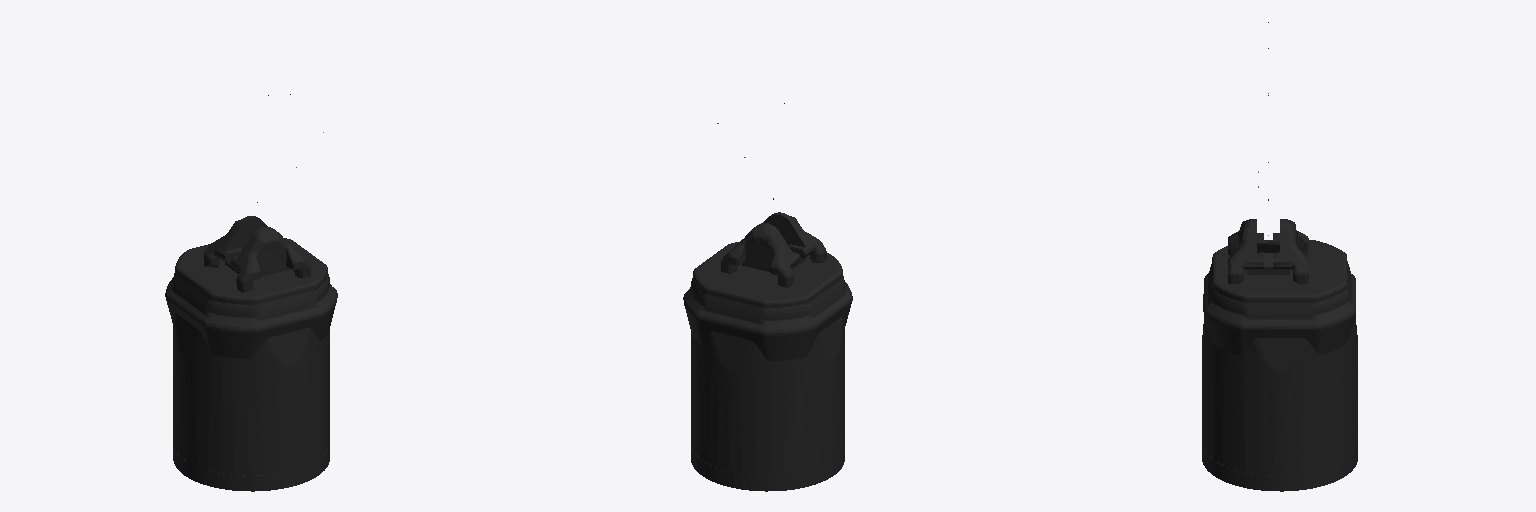
--- Render facts (derived) ---
3 views of the same robot in one strip: view 1: azimuth 30°, elevation 25°; view 2: azimuth 150°, elevation 25°; view 3: azimuth 270°, elevation 25° (orthographic).
Robot: shadowhand_motor — 33 links, 32 joints (24 revolute, 8 fixed); root link world; default pose: every joint at zero.
Links seen in each view (by area): view 1: rh_forearm; view 2: rh_forearm; view 3: rh_forearm.
Boxes of the visible links, x1,y1,x2,y2 form: rh_forearm: (165, 216, 337, 491); rh_forearm: (683, 212, 852, 491); rh_forearm: (1202, 219, 1357, 491).
Size in the robot's own frame: 0.1513 by 0.1351 by 0.4162 metres.
23 mesh visuals loaded from 11 distinct referenced files (11 Collada DAE).

robot.urdf — shadowhand_motor:
<?xml version="1.0" ?>
<!-- =================================================================================== -->
<!-- |    This document was autogenerated by xacro from [local-path]/projects/shadow_robot/base_deps/src/sr_common/sr_description/robots/shadowhand_motor.urdf.xacro | -->
<!-- |    EDITING THIS FILE BY HAND IS NOT RECOMMENDED                                 | -->
<!-- =================================================================================== -->
<robot name="shadowhand_motor" xmlns:body="http://playerstage.sourceforge.net/gazebo/xmlschema/#body" xmlns:controller="http://playerstage.sourceforge.net/gazebo/xmlschema/#controller" xmlns:geom="http://playerstage.sourceforge.net/gazebo/xmlschema/#geom" xmlns:interface="http://playerstage.sourceforge.net/gazebo/xmlschema/#interface" xmlns:joint="http://playerstage.sourceforge.net/gazebo/xmlschema/#slider" xmlns:sensor="http://playerstage.sourceforge.net/gazebo/xmlschema/#sensor" xmlns:xacro="http://www.ros.org/wiki/xacro">
  <material name="Blue">
    <color rgba="0.0 0.0 0.8 1.0"/>
  </material>
  <material name="Green">
    <color rgba="0.0 0.8 0.0 1.0"/>
  </material>
  <material name="BiotacGreen">
    <color rgba="0.31 0.85 0.42 1.0"/>
  </material>
  <material name="Grey">
    <color rgba="0.2 0.2 0.2 1.0"/>
  </material>
  <material name="LightGrey">
    <color rgba="0.6 0.6 0.6 1.0"/>
  </material>
  <material name="Red">
    <color rgba="0.8 0.0 0.0 1.0"/>
  </material>
  <material name="White">
    <color rgba="1.0 1.0 1.0 1.0"/>
  </material>
  <gazebo>
    <plugin filename="libgazebo_ros_control.so" name="gazebo_ros_control">
      <robotSimType>sr_gazebo_sim/SrGazeboHWSim</robotSimType>
    </plugin>
  </gazebo>
  <!-- hand with cylindrical base drifts in gazebo, attach it to the world -->
  <link name="world"/>
  <joint name="rh_world_joint" type="fixed">
    <parent link="world"/>
    <child link="rh_forearm"/>
    <origin rpy="0.0 0.0 0.0" xyz="0.0 0.0 0.0"/>
  </joint>
  <link name="rh_forearm">
    <inertial>
      <origin rpy="0 0 0" xyz="0 0 0.09"/>
      <mass value="3.0"/>
      <inertia ixx="0.0138" ixy="0.0" ixz="0.0" iyy="0.0138" iyz="0.0" izz="0.00744"/>
    </inertial>
    <visual>
      <origin rpy="0 0 0" xyz="0 0 0"/>
      <geometry name="rh_forearm_visual">
        <mesh filename="package://sr_description/hand/model/forearm_visual_plus.dae" scale="0.001 0.001 0.001"/>
      </geometry>
      <material name="Grey"/>
    </visual>
    <collision>
      <origin rpy="0 0 0" xyz="0 0 0.092"/>
      <geometry name="rh_forearm_collision">
        <mesh filename="package://sr_description/hand/model/forearm_collision_plus.stl" scale="0.001 0.001 0.001"/>
      </geometry>
    </collision>
    <!-- wrist mount -->
    <collision>
      <origin rpy="0 0.78 0" xyz="0 -0.01 0.181"/>
      <geometry>
        <box size="0.07 0.07 0.07"/>
      </geometry>
    </collision>
  </link>
  <gazebo reference="rh_forearm">
    <selfCollide>false</selfCollide>
  </gazebo>
  <link name="rh_wrist">
    <inertial>
      <origin rpy="0 0 0" xyz="0 0 0.029"/>
      <mass value="0.1"/>
      <inertia ixx="0.000035" ixy="0.0" ixz="0.0" iyy="0.000064" iyz="0.0" izz="0.0000438"/>
    </inertial>
    <visual>
      <origin rpy="0 0 0" xyz="0 0 0"/>
      <geometry name="rh_wrist_visual">
        <mesh filename="package://sr_description/hand/model/wrist.dae" scale="0.001 0.001 0.001"/>
      </geometry>
      <material name="LightGrey"/>
    </visual>
    <collision>
      <origin rpy="1.5708 1.5708 0" xyz="0 0 0"/>
      <geometry name="rh_wrist_collision_geom">
        <cylinder length="0.030" radius="0.0135"/>
      </geometry>
    </collision>
    <collision>
      <origin rpy="0 1.5708 0" xyz="-0.026 0 0.034"/>
      <geometry>
        <cylinder length="0.010" radius="0.011"/>
      </geometry>
    </collision>
    <collision>
      <origin rpy="0 1.5708 0" xyz="0.031 0 0.034"/>
      <geometry>
        <cylinder length="0.010" radius="0.011"/>
      </geometry>
    </collision>
    <collision>
      <origin rpy="0 0.7854 0" xyz="-0.021 0 0.011"/>
      <geometry>
        <box size="0.027 0.018 0.010"/>
      </geometry>
    </collision>
    <collision>
      <origin rpy="0 -0.7854 0" xyz="0.026 0 0.010"/>
      <geometry>
        <box size="0.027 0.018 0.010"/>
      </geometry>
    </collision>
  </link>
  <gazebo reference="rh_wrist">
    <material>Gazebo/White</material>
    <selfCollide>false</selfCollide>
  </gazebo>
  <joint name="rh_WRJ2" type="revolute">
    <parent link="rh_forearm"/>
    <child link="rh_wrist"/>
    <origin rpy="0 0 0" xyz="0 -0.010 0.213"/>
    <axis xyz="0 1.0 0"/>
    <limit effort="10.0" lower="-0.523598775598" upper="0.174532925199" velocity="2.0"/>
    <dynamics damping="0.1"/>
  </joint>
  <gazebo reference="rh_WRJ2">
    <provideFeedback>1</provideFeedback>
    <implicitSpringDamper>1</implicitSpringDamper>
  </gazebo>
  <transmission name="rh_wrist_transmission">
    <type>sr_mechanism_model/SimpleTransmission</type>
    <actuator name="rh_WRJ2">
      <mechanicalReduction>1</mechanicalReduction>
    </actuator>
    <joint name="rh_WRJ2">
      <hardwareInterface>hardware_interface/EffortJointInterface</hardwareInterface>
    </joint>
  </transmission>
  <link name="rh_palm">
    <inertial>
      <origin rpy="0 0 0" xyz="0 0 0.035"/>
      <mass value="0.3"/>
      <inertia ixx="0.0003581" ixy="0.0" ixz="0.0" iyy="0.0005287" iyz="0.0" izz="0.000191"/>
    </inertial>
    <visual>
      <origin rpy="0 0 0" xyz="0 0 0"/>
      <geometry name="rh_palm_visual">
        <mesh filename="package://sr_description/hand/model/palm.dae" scale="0.001 0.001 0.001"/>
      </geometry>
      <material name="Grey"/>
    </visual>
    <collision>
      <origin rpy="0 0 0" xyz="0.011 0.0085 0.038"/>
      <geometry name="rh_palm_collision_geom">
        <box size="0.062 0.007 0.098"/>
      </geometry>
    </collision>
    <collision>
      <origin rpy="0 0 0" xyz="-0.002 -0.0035 0.038"/>
      <geometry>
        <box size="0.036 0.017 0.098"/>
      </geometry>
    </collision>
    <!-- palm complement below first finger -->
    <collision>
      <origin rpy="0 0 0" xyz="0.029 -0.0035 0.082"/>
      <geometry>
        <box size="0.026 0.017 0.010"/>
      </geometry>
    </collision>
    <collision>
      <origin rpy="0.2 0 0.25" xyz="0.0265 -0.001 0.070"/>
      <geometry>
        <box size="0.026 0.014 0.018"/>
      </geometry>
    </collision>
    <!-- thumb pulp side -->
    <collision>
      <origin rpy="0 0 0" xyz="0.0315 -0.0085 0.001"/>
      <geometry>
        <box size="0.021 0.027 0.024"/>
      </geometry>
    </collision>
    <!-- thumb pulp central -->
    <collision>
      <origin rpy="0 0 -0.48" xyz="0.0125 -0.015 0.009"/>
      <geometry>
        <box size="0.022 0.005 0.040"/>
      </geometry>
    </collision>
    <!-- above middle finger-->
    <collision>
      <origin rpy="0 0 0" xyz="0.011 0 0.089"/>
      <geometry>
        <box size="0.018 0.024 0.004"/>
      </geometry>
    </collision>
    <!-- metacarpal side-->
    <collision>
      <origin rpy="0 0 0" xyz="-0.03 0 0.009"/>
      <geometry>
        <box size="0.020 0.024 0.040"/>
      </geometry>
    </collision>
  </link>
  <joint name="rh_ee_fixed_joint" type="fixed">
    <parent link="rh_palm"/>
    <child link="rh_manipulator"/>
    <origin rpy="0.0 0.0 0.0" xyz="0.0 0.0 0.05"/>
  </joint>
  <link name="rh_manipulator"/>
  <joint name="rh_WRJ1" type="revolute">
    <parent link="rh_wrist"/>
    <child link="rh_palm"/>
    <origin rpy="0 0 0" xyz="0 0 0.034"/>
    <axis xyz="1 0 0"/>
    <limit effort="5.0" lower="-0.698131700798" upper="0.488692190558" velocity="2.0"/>
    <dynamics damping="0.1"/>
  </joint>
  <gazebo reference="rh_WRJ1">
    <provideFeedback>1</provideFeedback>
    <implicitSpringDamper>1</implicitSpringDamper>
  </gazebo>
  <link name="rh_imu"/>
  <joint name="rh_palm_to_imu" type="fixed">
    <parent link="rh_palm"/>
    <child link="rh_imu"/>
    <origin rpy="-1.5707963 3.141592 0.0" xyz="0.01785 0.00765 0.049125"/>
  </joint>
  <sensor name="rh_imu" update_rate="100">
    <parent link="rh_imu"/>
    <origin rpy="0 0 0" xyz="0 0 0"/>
  </sensor>
  <transmission name="rh_palm_transmission">
    <type>sr_mechanism_model/SimpleTransmission</type>
    <actuator name="rh_WRJ1">
      <mechanicalReduction>1</mechanicalReduction>
    </actuator>
    <joint name="rh_WRJ1">
      <hardwareInterface>hardware_interface/EffortJointInterface</hardwareInterface>
    </joint>
  </transmission>
  <!-- prefix can be anything but usually is "r_" or  "l_" for right and left hands distinction -->
  <gazebo reference="rh_palm">
    <sensor name="rh_palm_contact" type="contact">
      <always_on>1</always_on>
      <update_rate>1000.0</update_rate>
      <contact>
        <collision>rh_palm_collision</collision>
        <topic>rh_palm_collision</topic>
      </contact>
      <plugin filename="libgazebo_ros_bumper.so" name="rh_palm_gazebo_ros_bumper_controller">
        <alwaysOn>true</alwaysOn>
        <frameName>rh_palm</frameName>
        <updateRate>100.0</updateRate>
        <bumperTopicName>contacts/rh_palm</bumperTopicName>
      </plugin>
    </sensor>
  </gazebo>
  <link name="rh_ffknuckle">
    <inertial>
      <origin rpy="0 0 0" xyz="0 0 0"/>
      <mass value="0.008"/>
      <inertia ixx="0.00000026" ixy="0.0" ixz="0.0" iyy="0.00000026" iyz="0.0" izz="0.00000032"/>
    </inertial>
    <visual>
      <origin rpy="0 0 0" xyz="0 0 0.0005"/>
      <geometry name="rh_ffknuckle_visual">
        <mesh filename="package://sr_description/hand/model/knuckle.dae" scale="0.001 0.001 0.001"/>
      </geometry>
      <material name="LightGrey"/>
    </visual>
    <collision>
      <origin rpy="0 1.5708 0" xyz="0 0 0"/>
      <geometry name="rh_ffknuckle_collision_geom">
        <cylinder length="0.014" radius="0.007"/>
      </geometry>
    </collision>
  </link>
  <joint name="rh_FFJ4" type="revolute">
    <parent link="rh_palm"/>
    <child link="rh_ffknuckle"/>
    <!--<origin xyz="0.033 0 0.095" rpy="0 0 0" />-->
    <origin rpy="0 0 0" xyz="0.033 0 0.095"/>
    <axis xyz="0 -1.0 0"/>
    <limit effort="4.0" lower="-0.349065850399" upper="0.349065850399" velocity="2.0"/>
    <dynamics damping="0.1"/>
  </joint>
  <gazebo reference="rh_FFJ4">
    <provideFeedback>1</provideFeedback>
    <implicitSpringDamper>1</implicitSpringDamper>
  </gazebo>
  <transmission name="rh_ffknuckle_transmission">
    <type>sr_mechanism_model/SimpleTransmission</type>
    <actuator name="rh_FFJ4">
      <mechanicalReduction>1</mechanicalReduction>
    </actuator>
    <joint name="rh_FFJ4">
      <hardwareInterface>hardware_interface/EffortJointInterface</hardwareInterface>
    </joint>
  </transmission>
  <!-- prefix can be anything but usually is "r_" or  "l_" for right and left hands distinction -->
  <gazebo reference="rh_ffknuckle">
    <sensor name="rh_ffknuckle_contact" type="contact">
      <always_on>1</always_on>
      <update_rate>1000.0</update_rate>
      <contact>
        <collision>rh_ffknuckle_collision</collision>
        <topic>rh_ffknuckle_collision</topic>
      </contact>
      <plugin filename="libgazebo_ros_bumper.so" name="rh_ffknuckle_gazebo_ros_bumper_controller">
        <alwaysOn>true</alwaysOn>
        <frameName>rh_ffknuckle</frameName>
        <updateRate>100.0</updateRate>
        <bumperTopicName>contacts/rh_ff/knuckle</bumperTopicName>
      </plugin>
    </sensor>
    <material>Gazebo/Grey</material>
  </gazebo>
  <link name="rh_ffproximal">
    <inertial>
      <mass value="0.030"/>
      <origin xyz="0 0 0.0225"/>
      <inertia ixx="0.0000098" ixy="0.0" ixz="0.0" iyy="0.00001" iyz="0.0" izz="0.0000018"/>
    </inertial>
    <visual>
      <origin rpy="0 0 0" xyz="0 0 0"/>
      <geometry name="rh_ffproximal_visual">
        <mesh filename="package://sr_description/hand/model/F3.dae" scale="0.001 0.001 0.001"/>
      </geometry>
      <material name="Grey"/>
    </visual>
    <collision>
      <origin rpy="0 0 0" xyz="0 0 0.025"/>
      <geometry name="rh_ffproximal_collision_geom">
        <cylinder length="0.040" radius="0.007"/>
      </geometry>
    </collision>
  </link>
  <joint name="rh_FFJ3" type="revolute">
    <parent link="rh_ffknuckle"/>
    <child link="rh_ffproximal"/>
    <origin rpy="0 0 0" xyz="0 0 0"/>
    <axis xyz="1 0 0"/>
    <limit effort="4.0" lower="0" upper="1.57079632679" velocity="2.0"/>
    <dynamics damping="0.1"/>
  </joint>
  <gazebo reference="rh_FFJ3">
    <provideFeedback>1</provideFeedback>
    <implicitSpringDamper>1</implicitSpringDamper>
  </gazebo>
  <transmission name="rh_ffproximal_transmission">
    <type>sr_mechanism_model/SimpleTransmission</type>
    <actuator name="rh_FFJ3">
      <mechanicalReduction>1</mechanicalReduction>
    </actuator>
    <joint name="rh_FFJ3">
      <hardwareInterface>hardware_interface/EffortJointInterface</hardwareInterface>
    </joint>
  </transmission>
  <!-- prefix can be anything but usually is "r_" or  "l_" for right and left hands distinction -->
  <gazebo reference="rh_ffproximal">
    <sensor name="rh_ffproximal_contact" type="contact">
      <always_on>1</always_on>
      <update_rate>1000.0</update_rate>
      <contact>
        <collision>rh_ffproximal_collision</collision>
        <topic>rh_ffproximal_collision</topic>
      </contact>
      <plugin filename="libgazebo_ros_bumper.so" name="rh_ffproximal_gazebo_ros_bumper_controller">
        <alwaysOn>true</alwaysOn>
        <frameName>rh_ffproximal</frameName>
        <updateRate>100.0</updateRate>
        <bumperTopicName>contacts/rh_ff/proximal</bumperTopicName>
      </plugin>
    </sensor>
    <selfCollide>true</selfCollide>
  </gazebo>
  <link name="rh_ffmiddle">
    <inertial>
      <origin rpy="0 0 0" xyz="0 0 0.0125"/>
      <mass value="0.017"/>
      <inertia ixx="0.0000026" ixy="0.0" ixz="0.0" iyy="0.0000027" iyz="0.0" izz="0.00000087"/>
    </inertial>
    <visual>
      <origin rpy="0 0 0" xyz="0 0 0"/>
      <geometry name="rh_ffmiddle_visual">
        <mesh filename="package://sr_description/hand/model/F2.dae" scale="0.001 0.001 0.001"/>
      </geometry>
      <material name="Grey"/>
    </visual>
    <collision>
      <origin rpy="0 0 0" xyz="0 0 0.0125"/>
      <geometry name="rh_ffmiddle_collision_geom">
        <cylinder length="0.025" radius="0.007"/>
      </geometry>
    </collision>
    <collision>
      <origin rpy="0 0 0" xyz="0 0 0.0"/>
      <geometry>
        <sphere radius="0.007"/>
      </geometry>
    </collision>
    <collision>
      <origin rpy="0 0 0" xyz="0 0 0.025"/>
      <geometry>
        <sphere radius="0.007"/>
      </geometry>
    </collision>
  </link>
  <joint name="rh_FFJ2" type="revolute">
    <parent link="rh_ffproximal"/>
    <child link="rh_ffmiddle"/>
    <origin rpy="0 0 0" xyz="0 0 0.045"/>
    <axis xyz="1 0 0"/>
    <limit effort="4.0" lower="0" upper="1.57079632679" velocity="2.0"/>
    <dynamics damping="0.1"/>
  </joint>
  <gazebo reference="rh_FFJ2">
    <provideFeedback>1</provideFeedback>
    <implicitSpringDamper>1</implicitSpringDamper>
  </gazebo>
  <transmission name="rh_ffmiddle_transmission">
    <type>sr_mechanism_model/SimpleTransmission</type>
    <actuator name="rh_FFJ2">
      <mechanicalReduction>1</mechanicalReduction>
    </actuator>
    <joint name="rh_FFJ2">
      <hardwareInterface>hardware_interface/EffortJointInterface</hardwareInterface>
    </joint>
    <!-- <joint name="rh_FFJ1">
      <hardwareInterface>hardware_interface/EffortJointInterface</hardwareInterface>
    </joint> -->
  </transmission>
  <!-- prefix can be anything but usually is "r_" or  "l_" for right and left hands distinction -->
  <gazebo reference="rh_ffmiddle">
    <sensor name="rh_ffmiddle_contact" type="contact">
      <always_on>1</always_on>
      <update_rate>1000.0</update_rate>
      <contact>
        <collision>rh_ffmiddle_collision</collision>
        <topic>rh_ffmiddle_collision</topic>
      </contact>
      <plugin filename="libgazebo_ros_bumper.so" name="rh_ffproximal_gazebo_ros_bumper_controller">
        <alwaysOn>true</alwaysOn>
        <frameName>rh_ffmiddle</frameName>
        <updateRate>100.0</updateRate>
        <bumperTopicName>contacts/rh_ff/middle</bumperTopicName>
      </plugin>
    </sensor>
    <selfCollide>true</selfCollide>
  </gazebo>
  <link name="rh_ffdistal">
    <inertial>
      <mass value="0.012"/>
      <origin xyz="0 0 0.012"/>
      <inertia ixx="0.00000094" ixy="0.0" ixz="0.0" iyy="0.0000011" iyz="0.0" izz="0.00000053"/>
    </inertial>
    <visual>
      <origin rpy="0 0 0" xyz="0 0 0"/>
      <geometry name="rh_ffdistal_visual">
        <!-- Standard distal  -->
        <mesh filename="package://sr_description/hand/model/F1.dae" scale="0.001 0.001 0.001"/>
      </geometry>
      <material name="Grey"/>
    </visual>
    <collision>
      <origin rpy="0 0 0" xyz="0 0 0"/>
      <geometry name="rh_ffdistal_collision_geom">
        <!-- Standard distal  -->
        <mesh filename="package://sr_description/hand/model/F1.dae" scale="0.001 0.001 0.001"/>
      </geometry>
    </collision>
  </link>
  <joint name="rh_FFJ1" type="revolute">
    <parent link="rh_ffmiddle"/>
    <child link="rh_ffdistal"/>
    <origin rpy="0 0 0" xyz="0 0 0.025"/>
    <axis xyz="1 0 0"/>
    <!-- standard distal joint -->
    <limit effort="4.0" lower="0" upper="1.57079632679" velocity="2.0"/>
    <dynamics damping="0.1"/>
  </joint>
  <gazebo reference="rh_FFJ1">
    <provideFeedback>1</provideFeedback>
    <implicitSpringDamper>1</implicitSpringDamper>
  </gazebo>
  <link name="rh_fftip">
    <inertial>
      <mass value="0.001"/>
      <inertia ixx="0.0" ixy="0.0" ixz="0.0" iyy="0.0" iyz="0.0" izz="0.0"/>
    </inertial>
  </link>
  <joint name="rh_FFtip" type="fixed">
    <parent link="rh_ffdistal"/>
    <child link="rh_fftip"/>
    <origin rpy="0 0 0" xyz="0 0 0.0295"/>
  </joint>
  <transmission name="rh_ffdistal_transmission">
    <type>sr_mechanism_model/SimpleTransmission</type>
    <actuator name="rh_FFJ1">
      <mechanicalReduction>1</mechanicalReduction>
    </actuator>
    <joint name="rh_FFJ1">
      <hardwareInterface>hardware_interface/EffortJointInterface</hardwareInterface>
    </joint>
  </transmission>
  <!-- prefix can be anything but usually is "r_" or  "l_" for right and left hands distinction -->
  <gazebo reference="rh_ffdistal">
    <sensor name="rh_ffdistal_contact" type="contact">
      <always_on>1</always_on>
      <update_rate>1000.0</update_rate>
      <contact>
        <collision>rh_ffdistal_collision</collision>
        <topic>rh_ffdistal_collision</topic>
      </contact>
      <plugin filename="libgazebo_ros_bumper.so" name="rh_ffdistal_gazebo_ros_bumper_controller">
        <alwaysOn>true</alwaysOn>
        <frameName>rh_ffdistal</frameName>
        <updateRate>100.0</updateRate>
        <bumperTopicName>contacts/rh_ff/distal</bumperTopicName>
      </plugin>
    </sensor>
    <mu1 value="500.0"/>
    <mu2 value="500.0"/>
    <kp value="10000000.0"/>
    <kd value="1.0"/>
    <selfCollide>true</selfCollide>
  </gazebo>
  <link name="rh_mfknuckle">
    <inertial>
      <origin rpy="0 0 0" xyz="0 0 0"/>
      <mass value="0.008"/>
      <inertia ixx="0.00000026" ixy="0.0" ixz="0.0" iyy="0.00000026" iyz="0.0" izz="0.00000032"/>
    </inertial>
    <visual>
      <origin rpy="0 0 0" xyz="0 0 0.0005"/>
      <geometry name="rh_mfknuckle_visual">
        <mesh filename="package://sr_description/hand/model/knuckle.dae" scale="0.001 0.001 0.001"/>
      </geometry>
      <material name="LightGrey"/>
    </visual>
    <collision>
      <origin rpy="0 1.5708 0" xyz="0 0 0"/>
      <geometry name="rh_mfknuckle_collision_geom">
        <cylinder length="0.014" radius="0.007"/>
      </geometry>
    </collision>
  </link>
  <joint name="rh_MFJ4" type="revolute">
    <parent link="rh_palm"/>
    <child link="rh_mfknuckle"/>
    <!--<origin xyz="0.033 0 0.095" rpy="0 0 0" />-->
    <origin rpy="0 0 0" xyz="0.011 0 0.099"/>
    <axis xyz="0 -1.0 0"/>
    <limit effort="4.0" lower="-0.349065850399" upper="0.349065850399" velocity="2.0"/>
    <dynamics damping="0.1"/>
  </joint>
  <gazebo reference="rh_MFJ4">
    <provideFeedback>1</provideFeedback>
    <implicitSpringDamper>1</implicitSpringDamper>
  </gazebo>
  <transmission name="rh_mfknuckle_transmission">
    <type>sr_mechanism_model/SimpleTransmission</type>
    <actuator name="rh_MFJ4">
      <mechanicalReduction>1</mechanicalReduction>
    </actuator>
    <joint name="rh_MFJ4">
      <hardwareInterface>hardware_interface/EffortJointInterface</hardwareInterface>
    </joint>
  </transmission>
  <!-- prefix can be anything but usually is "r_" or  "l_" for right and left hands distinction -->
  <gazebo reference="rh_mfknuckle">
    <sensor name="rh_mfknuckle_contact" type="contact">
      <always_on>1</always_on>
      <update_rate>1000.0</update_rate>
      <contact>
        <collision>rh_mfknuckle_collision</collision>
        <topic>rh_mfknuckle_collision</topic>
      </contact>
      <plugin filename="libgazebo_ros_bumper.so" name="rh_mfknuckle_gazebo_ros_bumper_controller">
        <alwaysOn>true</alwaysOn>
        <frameName>rh_mfknuckle</frameName>
        <updateRate>100.0</updateRate>
        <bumperTopicName>contacts/rh_mf/knuckle</bumperTopicName>
      </plugin>
    </sensor>
    <material>Gazebo/Grey</material>
  </gazebo>
  <link name="rh_mfproximal">
    <inertial>
      <mass value="0.030"/>
      <origin xyz="0 0 0.0225"/>
      <inertia ixx="0.0000098" ixy="0.0" ixz="0.0" iyy="0.00001" iyz="0.0" izz="0.0000018"/>
    </inertial>
    <visual>
      <origin rpy="0 0 0" xyz="0 0 0"/>
      <geometry name="rh_mfproximal_visual">
        <mesh filename="package://sr_description/hand/model/F3.dae" scale="0.001 0.001 0.001"/>
      </geometry>
      <material name="Grey"/>
    </visual>
    <collision>
      <origin rpy="0 0 0" xyz="0 0 0.025"/>
      <geometry name="rh_mfproximal_collision_geom">
        <cylinder length="0.040" radius="0.007"/>
      </geometry>
    </collision>
  </link>
  <joint name="rh_MFJ3" type="revolute">
    <parent link="rh_mfknuckle"/>
    <child link="rh_mfproximal"/>
    <origin rpy="0 0 0" xyz="0 0 0"/>
    <axis xyz="1 0 0"/>
    <limit effort="4.0" lower="0" upper="1.57079632679" velocity="2.0"/>
    <dynamics damping="0.1"/>
  </joint>
  <gazebo reference="rh_MFJ3">
    <provideFeedback>1</provideFeedback>
    <implicitSpringDamper>1</implicitSpringDamper>
  </gazebo>
  <transmission name="rh_mfproximal_transmission">
    <type>sr_mechanism_model/SimpleTransmission</type>
    <actuator name="rh_MFJ3">
      <mechanicalReduction>1</mechanicalReduction>
    </actuator>
    <joint name="rh_MFJ3">
      <hardwareInterface>hardware_interface/EffortJointInterface</hardwareInterface>
    </joint>
  </transmission>
  <!-- prefix can be anything but usually is "r_" or  "l_" for right and left hands distinction -->
  <gazebo reference="rh_mfproximal">
    <sensor name="rh_mfproximal_contact" type="contact">
      <always_on>1</always_on>
      <update_rate>1000.0</update_rate>
      <contact>
        <collision>rh_mfproximal_collision</collision>
        <topic>rh_mfproximal_collision</topic>
      </contact>
      <plugin filename="libgazebo_ros_bumper.so" name="rh_mfproximal_gazebo_ros_bumper_controller">
        <alwaysOn>true</alwaysOn>
        <frameName>rh_mfproximal</frameName>
        <updateRate>100.0</updateRate>
        <bumperTopicName>contacts/rh_mf/proximal</bumperTopicName>
      </plugin>
    </sensor>
    <selfCollide>true</selfCollide>
  </gazebo>
  <link name="rh_mfmiddle">
    <inertial>
      <origin rpy="0 0 0" xyz="0 0 0.0125"/>
      <mass value="0.017"/>
      <inertia ixx="0.0000026" ixy="0.0" ixz="0.0" iyy="0.0000027" iyz="0.0" izz="0.00000087"/>
    </inertial>
    <visual>
      <origin rpy="0 0 0" xyz="0 0 0"/>
      <geometry name="rh_mfmiddle_visual">
        <mesh filename="package://sr_description/hand/model/F2.dae" scale="0.001 0.001 0.001"/>
      </geometry>
      <material name="Grey"/>
    </visual>
    <collision>
      <origin rpy="0 0 0" xyz="0 0 0.0125"/>
      <geometry name="rh_mfmiddle_collision_geom">
        <cylinder length="0.025" radius="0.007"/>
      </geometry>
    </collision>
    <collision>
      <origin rpy="0 0 0" xyz="0 0 0.0"/>
      <geometry>
        <sphere radius="0.007"/>
      </geometry>
    </collision>
    <collision>
      <origin rpy="0 0 0" xyz="0 0 0.025"/>
      <geometry>
        <sphere radius="0.007"/>
      </geometry>
    </collision>
  </link>
  <joint name="rh_MFJ2" type="revolute">
    <parent link="rh_mfproximal"/>
    <child link="rh_mfmiddle"/>
    <origin rpy="0 0 0" xyz="0 0 0.045"/>
    <axis xyz="1 0 0"/>
    <limit effort="4.0" lower="0" upper="1.57079632679" velocity="2.0"/>
    <dynamics damping="0.1"/>
  </joint>
  <gazebo reference="rh_MFJ2">
    <provideFeedback>1</provideFeedback>
    <implicitSpringDamper>1</implicitSpringDamper>
  </gazebo>
  <transmission name="rh_mfmiddle_transmission">
    <type>sr_mechanism_model/SimpleTransmission</type>
    <actuator name="rh_MFJ2">
      <mechanicalReduction>1</mechanicalReduction>
    </actuator>
    <joint name="rh_MFJ2">
      <hardwareInterface>hardware_interface/EffortJointInterface</hardwareInterface>
    </joint>
  </transmission>
  <!-- prefix can be anything but usually is "r_" or  "l_" for right and left hands distinction -->
  <gazebo reference="rh_mfmiddle">
    <sensor name="rh_mfmiddle_contact" type="contact">
      <always_on>1</always_on>
      <update_rate>1000.0</update_rate>
      <contact>
        <collision>rh_mfmiddle_collision</collision>
        <topic>rh_mfmiddle_collision</topic>
      </contact>
      <plugin filename="libgazebo_ros_bumper.so" name="rh_mfproximal_gazebo_ros_bumper_controller">
        <alwaysOn>true</alwaysOn>
        <frameName>rh_mfmiddle</frameName>
        <updateRate>100.0</updateRate>
        <bumperTopicName>contacts/rh_mf/middle</bumperTopicName>
      </plugin>
    </sensor>
    <selfCollide>true</selfCollide>
  </gazebo>
  <link name="rh_mfdistal">
    <inertial>
      <mass value="0.012"/>
      <origin xyz="0 0 0.012"/>
      <inertia ixx="0.00000094" ixy="0.0" ixz="0.0" iyy="0.0000011" iyz="0.0" izz="0.00000053"/>
    </inertial>
    <visual>
      <origin rpy="0 0 0" xyz="0 0 0"/>
      <geometry name="rh_mfdistal_visual">
        <!-- Standard distal  -->
        <mesh filename="package://sr_description/hand/model/F1.dae" scale="0.001 0.001 0.001"/>
      </geometry>
      <material name="Grey"/>
    </visual>
    <collision>
      <origin rpy="0 0 0" xyz="0 0 0"/>
      <geometry name="rh_mfdistal_collision_geom">
        <!-- Standard distal  -->
        <mesh filename="package://sr_description/hand/model/F1.dae" scale="0.001 0.001 0.001"/>
      </geometry>
    </collision>
  </link>
  <joint name="rh_MFJ1" type="revolute">
    <parent link="rh_mfmiddle"/>
    <child link="rh_mfdistal"/>
    <origin rpy="0 0 0" xyz="0 0 0.025"/>
    <axis xyz="1 0 0"/>
    <!-- standard distal joint -->
    <limit effort="4.0" lower="0" upper="1.57079632679" velocity="2.0"/>
    <dynamics damping="0.1"/>
  </joint>
  <gazebo reference="rh_MFJ1">
    <provideFeedback>1</provideFeedback>
    <implicitSpringDamper>1</implicitSpringDamper>
  </gazebo>
  <link name="rh_mftip">
    <inertial>
      <mass value="0.001"/>
      <inertia ixx="0.0" ixy="0.0" ixz="0.0" iyy="0.0" iyz="0.0" izz="0.0"/>
    </inertial>
  </link>
  <joint name="rh_MFtip" type="fixed">
    <parent link="rh_mfdistal"/>
    <child link="rh_mftip"/>
    <origin rpy="0 0 0" xyz="0 0 0.0295"/>
  </joint>
  <transmission name="rh_mfdistal_transmission">
    <type>sr_mechanism_model/SimpleTransmission</type>
    <actuator name="rh_MFJ1">
      <mechanicalReduction>1</mechanicalReduction>
    </actuator>
    <joint name="rh_MFJ1">
      <hardwareInterface>hardware_interface/EffortJointInterface</hardwareInterface>
    </joint>
  </transmission>
  <!-- prefix can be anything but usually is "r_" or  "l_" for right and left hands distinction -->
  <gazebo reference="rh_mfdistal">
    <sensor name="rh_mfdistal_contact" type="contact">
      <always_on>1</always_on>
      <update_rate>1000.0</update_rate>
      <contact>
        <collision>rh_mfdistal_collision</collision>
        <topic>rh_mfdistal_collision</topic>
      </contact>
      <plugin filename="libgazebo_ros_bumper.so" name="rh_mfdistal_gazebo_ros_bumper_controller">
        <alwaysOn>true</alwaysOn>
        <frameName>rh_mfdistal</frameName>
        <updateRate>100.0</updateRate>
        <bumperTopicName>contacts/rh_mf/distal</bumperTopicName>
      </plugin>
    </sensor>
    <mu1 value="500.0"/>
    <mu2 value="500.0"/>
    <kp value="10000000.0"/>
    <kd value="1.0"/>
    <selfCollide>true</selfCollide>
  </gazebo>
  <link name="rh_rfknuckle">
    <inertial>
      <origin rpy="0 0 0" xyz="0 0 0"/>
      <mass value="0.008"/>
      <inertia ixx="0.00000026" ixy="0.0" ixz="0.0" iyy="0.00000026" iyz="0.0" izz="0.00000032"/>
    </inertial>
    <visual>
      <origin rpy="0 0 0" xyz="0 0 0.0005"/>
      <geometry name="rh_rfknuckle_visual">
        <mesh filename="package://sr_description/hand/model/knuckle.dae" scale="0.001 0.001 0.001"/>
      </geometry>
      <material name="LightGrey"/>
    </visual>
    <collision>
      <origin rpy="0 1.5708 0" xyz="0 0 0"/>
      <geometry name="rh_rfknuckle_collision_geom">
        <cylinder length="0.014" radius="0.007"/>
      </geometry>
    </collision>
  </link>
  <joint name="rh_RFJ4" type="revolute">
    <parent link="rh_palm"/>
    <child link="rh_rfknuckle"/>
    <!--<origin xyz="0.033 0 0.095" rpy="0 0 0" />-->
    <origin rpy="0 0 0" xyz="-0.011 0 0.095"/>
    <axis xyz="0 1.0 0"/>
    <limit effort="4.0" lower="-0.349065850399" upper="0.349065850399" velocity="2.0"/>
    <dynamics damping="0.1"/>
  </joint>
  <gazebo reference="rh_RFJ4">
    <provideFeedback>1</provideFeedback>
    <implicitSpringDamper>1</implicitSpringDamper>
  </gazebo>
  <transmission name="rh_rfknuckle_transmission">
    <type>sr_mechanism_model/SimpleTransmission</type>
    <actuator name="rh_RFJ4">
      <mechanicalReduction>1</mechanicalReduction>
    </actuator>
    <joint name="rh_RFJ4">
      <hardwareInterface>hardware_interface/EffortJointInterface</hardwareInterface>
    </joint>
  </transmission>
  <!-- prefix can be anything but usually is "r_" or  "l_" for right and left hands distinction -->
  <gazebo reference="rh_rfknuckle">
    <sensor name="rh_rfknuckle_contact" type="contact">
      <always_on>1</always_on>
      <update_rate>1000.0</update_rate>
      <contact>
        <collision>rh_rfknuckle_collision</collision>
        <topic>rh_rfknuckle_collision</topic>
      </contact>
      <plugin filename="libgazebo_ros_bumper.so" name="rh_rfknuckle_gazebo_ros_bumper_controller">
        <alwaysOn>true</alwaysOn>
        <frameName>rh_rfknuckle</frameName>
        <updateRate>100.0</updateRate>
        <bumperTopicName>contacts/rh_rf/knuckle</bumperTopicName>
      </plugin>
    </sensor>
    <material>Gazebo/Grey</material>
  </gazebo>
  <link name="rh_rfproximal">
    <inertial>
      <mass value="0.030"/>
      <origin xyz="0 0 0.0225"/>
      <inertia ixx="0.0000098" ixy="0.0" ixz="0.0" iyy="0.00001" iyz="0.0" izz="0.0000018"/>
    </inertial>
    <visual>
      <origin rpy="0 0 0" xyz="0 0 0"/>
      <geometry name="rh_rfproximal_visual">
        <mesh filename="package://sr_description/hand/model/F3.dae" scale="0.001 0.001 0.001"/>
      </geometry>
      <material name="Grey"/>
    </visual>
    <collision>
      <origin rpy="0 0 0" xyz="0 0 0.025"/>
      <geometry name="rh_rfproximal_collision_geom">
        <cylinder length="0.040" radius="0.007"/>
      </geometry>
    </collision>
  </link>
  <joint name="rh_RFJ3" type="revolute">
    <parent link="rh_rfknuckle"/>
    <child link="rh_rfproximal"/>
    <origin rpy="0 0 0" xyz="0 0 0"/>
    <axis xyz="1 0 0"/>
    <limit effort="4.0" lower="0" upper="1.57079632679" velocity="2.0"/>
    <dynamics damping="0.1"/>
  </joint>
  <gazebo reference="rh_RFJ3">
    <provideFeedback>1</provideFeedback>
    <implicitSpringDamper>1</implicitSpringDamper>
  </gazebo>
  <transmission name="rh_rfproximal_transmission">
    <type>sr_mechanism_model/SimpleTransmission</type>
    <actuator name="rh_RFJ3">
      <mechanicalReduction>1</mechanicalReduction>
    </actuator>
    <joint name="rh_RFJ3">
      <hardwareInterface>hardware_interface/EffortJointInterface</hardwareInterface>
    </joint>
  </transmission>
  <!-- prefix can be anything but usually is "r_" or  "l_" for right and left hands distinction -->
  <gazebo reference="rh_rfproximal">
    <sensor name="rh_rfproximal_contact" type="contact">
      <always_on>1</always_on>
      <update_rate>1000.0</update_rate>
      <contact>
        <collision>rh_rfproximal_collision</collision>
        <topic>rh_rfproximal_collision</topic>
      </contact>
      <plugin filename="libgazebo_ros_bumper.so" name="rh_rfproximal_gazebo_ros_bumper_controller">
        <alwaysOn>true</alwaysOn>
        <frameName>rh_rfproximal</frameName>
        <updateRate>100.0</updateRate>
        <bumperTopicName>contacts/rh_rf/proximal</bumperTopicName>
      </plugin>
    </sensor>
    <selfCollide>true</selfCollide>
  </gazebo>
  <link name="rh_rfmiddle">
    <inertial>
      <origin rpy="0 0 0" xyz="0 0 0.0125"/>
      <mass value="0.017"/>
      <inertia ixx="0.0000026" ixy="0.0" ixz="0.0" iyy="0.0000027" iyz="0.0" izz="0.00000087"/>
    </inertial>
    <visual>
      <origin rpy="0 0 0" xyz="0 0 0"/>
      <geometry name="rh_rfmiddle_visual">
        <mesh filename="package://sr_description/hand/model/F2.dae" scale="0.001 0.001 0.001"/>
      </geometry>
      <material name="Grey"/>
    </visual>
    <collision>
      <origin rpy="0 0 0" xyz="0 0 0.0125"/>
      <geometry name="rh_rfmiddle_collision_geom">
        <cylinder length="0.025" radius="0.007"/>
      </geometry>
    </collision>
    <collision>
      <origin rpy="0 0 0" xyz="0 0 0.0"/>
      <geometry>
        <sphere radius="0.007"/>
      </geometry>
    </collision>
    <collision>
      <origin rpy="0 0 0" xyz="0 0 0.025"/>
      <geometry>
        <sphere radius="0.007"/>
      </geometry>
    </collision>
  </link>
  <joint name="rh_RFJ2" type="revolute">
    <parent link="rh_rfproximal"/>
    <child link="rh_rfmiddle"/>
    <origin rpy="0 0 0" xyz="0 0 0.045"/>
    <axis xyz="1 0 0"/>
    <limit effort="4.0" lower="0" upper="1.57079632679" velocity="2.0"/>
    <dynamics damping="0.1"/>
  </joint>
  <gazebo reference="rh_RFJ2">
    <provideFeedback>1</provideFeedback>
    <implicitSpringDamper>1</implicitSpringDamper>
  </gazebo>
  <transmission name="rh_rfmiddle_transmission">
    <type>sr_mechanism_model/SimpleTransmission</type>
    <actuator name="rh_RFJ2">
      <mechanicalReduction>1</mechanicalReduction>
    </actuator>
    <joint name="rh_RFJ2">
      <hardwareInterface>hardware_interface/EffortJointInterface</hardwareInterface>
    </joint>
    <!-- <secondJoint name="${prefix}${joint_prefix}J2"/> -->
  </transmission>
  <!-- prefix can be anything but usually is "r_" or  "l_" for right and left hands distinction -->
  <gazebo reference="rh_rfmiddle">
    <sensor name="rh_rfmiddle_contact" type="contact">
      <always_on>1</always_on>
      <update_rate>1000.0</update_rate>
      <contact>
        <collision>rh_rfmiddle_collision</collision>
        <topic>rh_rfmiddle_collision</topic>
      </contact>
      <plugin filename="libgazebo_ros_bumper.so" name="rh_rfproximal_gazebo_ros_bumper_controller">
        <alwaysOn>true</alwaysOn>
        <frameName>rh_rfmiddle</frameName>
        <updateRate>100.0</updateRate>
        <bumperTopicName>contacts/rh_rf/middle</bumperTopicName>
      </plugin>
    </sensor>
    <selfCollide>true</selfCollide>
  </gazebo>
  <link name="rh_rfdistal">
    <inertial>
      <mass value="0.012"/>
      <origin xyz="0 0 0.012"/>
      <inertia ixx="0.00000094" ixy="0.0" ixz="0.0" iyy="0.0000011" iyz="0.0" izz="0.00000053"/>
    </inertial>
    <visual>
      <origin rpy="0 0 0" xyz="0 0 0"/>
      <geometry name="rh_rfdistal_visual">
        <!-- Standard distal  -->
        <mesh filename="package://sr_description/hand/model/F1.dae" scale="0.001 0.001 0.001"/>
      </geometry>
      <material name="Grey"/>
    </visual>
    <collision>
      <origin rpy="0 0 0" xyz="0 0 0"/>
      <geometry name="rh_rfdistal_collision_geom">
        <!-- Standard distal  -->
        <mesh filename="package://sr_description/hand/model/F1.dae" scale="0.001 0.001 0.001"/>
      </geometry>
    </collision>
  </link>
  <joint name="rh_RFJ1" type="revolute">
    <parent link="rh_rfmiddle"/>
    <child link="rh_rfdistal"/>
    <origin rpy="0 0 0" xyz="0 0 0.025"/>
    <axis xyz="1 0 0"/>
    <!-- standard distal joint -->
    <limit effort="4.0" lower="0" upper="1.57079632679" velocity="2.0"/>
    <dynamics damping="0.1"/>
  </joint>
  <gazebo reference="rh_RFJ1">
    <provideFeedback>1</provideFeedback>
    <implicitSpringDamper>1</implicitSpringDamper>
  </gazebo>
  <link name="rh_rftip">
    <inertial>
      <mass value="0.001"/>
      <inertia ixx="0.0" ixy="0.0" ixz="0.0" iyy="0.0" iyz="0.0" izz="0.0"/>
    </inertial>
  </link>
  <joint name="rh_RFtip" type="fixed">
    <parent link="rh_rfdistal"/>
    <child link="rh_rftip"/>
    <origin rpy="0 0 0" xyz="0 0 0.0295"/>
  </joint>
  <transmission name="rh_rfdistal_transmission">
    <type>sr_mechanism_model/SimpleTransmission</type>
    <actuator name="rh_RFJ1">
      <mechanicalReduction>1</mechanicalReduction>
    </actuator>
    <joint name="rh_RFJ1">
      <hardwareInterface>hardware_interface/EffortJointInterface</hardwareInterface>
    </joint>
  </transmission>
  <!-- prefix can be anything but usually is "r_" or  "l_" for right and left hands distinction -->
  <gazebo reference="rh_rfdistal">
    <sensor name="rh_rfdistal_contact" type="contact">
      <always_on>1</always_on>
      <update_rate>1000.0</update_rate>
      <contact>
        <collision>rh_rfdistal_collision</collision>
        <topic>rh_rfdistal_collision</topic>
      </contact>
      <plugin filename="libgazebo_ros_bumper.so" name="rh_rfdistal_gazebo_ros_bumper_controller">
        <alwaysOn>true</alwaysOn>
        <frameName>rh_rfdistal</frameName>
        <updateRate>100.0</updateRate>
        <bumperTopicName>contacts/rh_rf/distal</bumperTopicName>
      </plugin>
    </sensor>
    <mu1 value="500.0"/>
    <mu2 value="500.0"/>
    <kp value="10000000.0"/>
    <kd value="1.0"/>
    <selfCollide>true</selfCollide>
  </gazebo>
  <link name="rh_lfmetacarpal">
    <inertial>
      <origin rpy="0 0 0" xyz="0 0 0.04"/>
      <mass value="0.030"/>
      <inertia ixx="0.0000145" ixy="0.0" ixz="0.0" iyy="0.00001638" iyz="0.0" izz="0.000004272"/>
    </inertial>
    <visual>
      <origin rpy="0 0 0" xyz="0 0 0"/>
      <geometry name="rh_lfmetacarpal_visual">
        <mesh filename="package://sr_description/hand/model/lfmetacarpal.dae" scale="0.001 0.001 0.001"/>
      </geometry>
      <material name="Grey"/>
    </visual>
    <collision>
      <origin rpy="0 0 0" xyz="0 0 0.038"/>
      <geometry name="rh_lfmetacarpal_collision_geom">
        <box size="0.018 0.024 0.040"/>
      </geometry>
    </collision>
  </link>
  <joint name="rh_LFJ5" type="revolute">
    <parent link="rh_palm"/>
    <child link="rh_lfmetacarpal"/>
    <origin rpy="0 0 0" xyz="-0.033 0 0.02071"/>
    <axis xyz="0.573576436 0 0.819152044"/>
    <limit effort="4.0" lower="0" upper="0.785398163397" velocity="2.0"/>
    <dynamics damping="0.1"/>
  </joint>
  <gazebo reference="rh_LFJ5">
    <provideFeedback>1</provideFeedback>
    <implicitSpringDamper>1</implicitSpringDamper>
  </gazebo>
  <transmission name="rh_lfmetacarpal_transmission">
    <type>sr_mechanism_model/SimpleTransmission</type>
    <actuator name="rh_LFJ5">
      <mechanicalReduction>1</mechanicalReduction>
    </actuator>
    <joint name="rh_LFJ5">
      <hardwareInterface>hardware_interface/EffortJointInterface</hardwareInterface>
    </joint>
  </transmission>
  <!-- prefix can be anything but usually is "r_" or  "l_" for right and left hands distinction -->
  <gazebo reference="rh_lfmetacarpal">
    <sensor name="rh_lfmetacarpal_contact" type="contact">
      <always_on>1</always_on>
      <update_rate>1000.0</update_rate>
      <contact>
        <collision>rh_lfmetacarpal_collision</collision>
        <topic>rh_lfmetacarpal_collision</topic>
      </contact>
      <plugin filename="libgazebo_ros_bumper.so" name="rh_lfmetacarpal_gazebo_ros_bumper_controller">
        <alwaysOn>true</alwaysOn>
        <frameName>rh_lfmetacarpal</frameName>
        <updateRate>100.0</updateRate>
        <bumperTopicName>contacts/rh_lf/metacarpal</bumperTopicName>
      </plugin>
    </sensor>
    <selfCollide>true</selfCollide>
  </gazebo>
  <link name="rh_lfknuckle">
    <inertial>
      <origin rpy="0 0 0" xyz="0 0 0"/>
      <mass value="0.008"/>
      <inertia ixx="0.00000026" ixy="0.0" ixz="0.0" iyy="0.00000026" iyz="0.0" izz="0.00000032"/>
    </inertial>
    <visual>
      <origin rpy="0 0 0" xyz="0 0 0.0005"/>
      <geometry name="rh_lfknuckle_visual">
        <mesh filename="package://sr_description/hand/model/knuckle.dae" scale="0.001 0.001 0.001"/>
      </geometry>
      <material name="LightGrey"/>
    </visual>
    <collision>
      <origin rpy="0 1.5708 0" xyz="0 0 0"/>
      <geometry name="rh_lfknuckle_collision_geom">
        <cylinder length="0.014" radius="0.007"/>
      </geometry>
    </collision>
  </link>
  <joint name="rh_LFJ4" type="revolute">
    <parent link="rh_lfmetacarpal"/>
    <child link="rh_lfknuckle"/>
    <!--<origin xyz="0.033 0 0.095" rpy="0 0 0" />-->
    <origin rpy="0 0 0" xyz="0 0 0.06579"/>
    <axis xyz="0 1.0 0"/>
    <limit effort="4.0" lower="-0.349065850399" upper="0.349065850399" velocity="2.0"/>
    <dynamics damping="0.1"/>
  </joint>
  <gazebo reference="rh_LFJ4">
    <provideFeedback>1</provideFeedback>
    <implicitSpringDamper>1</implicitSpringDamper>
  </gazebo>
  <transmission name="rh_lfknuckle_transmission">
    <type>sr_mechanism_model/SimpleTransmission</type>
    <actuator name="rh_LFJ4">
      <mechanicalReduction>1</mechanicalReduction>
    </actuator>
    <joint name="rh_LFJ4">
      <hardwareInterface>hardware_interface/EffortJointInterface</hardwareInterface>
    </joint>
  </transmission>
  <!-- prefix can be anything but usually is "r_" or  "l_" for right and left hands distinction -->
  <gazebo reference="rh_lfknuckle">
    <sensor name="rh_lfknuckle_contact" type="contact">
      <always_on>1</always_on>
      <update_rate>1000.0</update_rate>
      <contact>
        <collision>rh_lfknuckle_collision</collision>
        <topic>rh_lfknuckle_collision</topic>
      </contact>
      <plugin filename="libgazebo_ros_bumper.so" name="rh_lfknuckle_gazebo_ros_bumper_controller">
        <alwaysOn>true</alwaysOn>
        <frameName>rh_lfknuckle</frameName>
        <updateRate>100.0</updateRate>
        <bumperTopicName>contacts/rh_lf/knuckle</bumperTopicName>
      </plugin>
    </sensor>
    <material>Gazebo/Grey</material>
  </gazebo>
  <link name="rh_lfproximal">
    <inertial>
      <mass value="0.030"/>
      <origin xyz="0 0 0.0225"/>
      <inertia ixx="0.0000098" ixy="0.0" ixz="0.0" iyy="0.00001" iyz="0.0" izz="0.0000018"/>
    </inertial>
    <visual>
      <origin rpy="0 0 0" xyz="0 0 0"/>
      <geometry name="rh_lfproximal_visual">
        <mesh filename="package://sr_description/hand/model/F3.dae" scale="0.001 0.001 0.001"/>
      </geometry>
      <material name="Grey"/>
    </visual>
    <collision>
      <origin rpy="0 0 0" xyz="0 0 0.025"/>
      <geometry name="rh_lfproximal_collision_geom">
        <cylinder length="0.040" radius="0.007"/>
      </geometry>
    </collision>
  </link>
  <joint name="rh_LFJ3" type="revolute">
    <parent link="rh_lfknuckle"/>
    <child link="rh_lfproximal"/>
    <origin rpy="0 0 0" xyz="0 0 0"/>
    <axis xyz="1 0 0"/>
    <limit effort="4.0" lower="0" upper="1.57079632679" velocity="2.0"/>
    <dynamics damping="0.1"/>
  </joint>
  <gazebo reference="rh_LFJ3">
    <provideFeedback>1</provideFeedback>
    <implicitSpringDamper>1</implicitSpringDamper>
  </gazebo>
  <transmission name="rh_lfproximal_transmission">
    <type>sr_mechanism_model/SimpleTransmission</type>
    <actuator name="rh_LFJ3">
      <mechanicalReduction>1</mechanicalReduction>
    </actuator>
    <joint name="rh_LFJ3">
      <hardwareInterface>hardware_interface/EffortJointInterface</hardwareInterface>
    </joint>
  </transmission>
  <!-- prefix can be anything but usually is "r_" or  "l_" for right and left hands distinction -->
  <gazebo reference="rh_lfproximal">
    <sensor name="rh_lfproximal_contact" type="contact">
      <always_on>1</always_on>
      <update_rate>1000.0</update_rate>
      <contact>
        <collision>rh_lfproximal_collision</collision>
        <topic>rh_lfproximal_collision</topic>
      </contact>
      <plugin filename="libgazebo_ros_bumper.so" name="rh_lfproximal_gazebo_ros_bumper_controller">
        <alwaysOn>true</alwaysOn>
        <frameName>rh_lfproximal</frameName>
        <updateRate>100.0</updateRate>
        <bumperTopicName>contacts/rh_lf/proximal</bumperTopicName>
      </plugin>
    </sensor>
    <selfCollide>true</selfCollide>
  </gazebo>
  <link name="rh_lfmiddle">
    <inertial>
      <origin rpy="0 0 0" xyz="0 0 0.0125"/>
      <mass value="0.017"/>
      <inertia ixx="0.0000026" ixy="0.0" ixz="0.0" iyy="0.0000027" iyz="0.0" izz="0.00000087"/>
    </inertial>
    <visual>
      <origin rpy="0 0 0" xyz="0 0 0"/>
      <geometry name="rh_lfmiddle_visual">
        <mesh filename="package://sr_description/hand/model/F2.dae" scale="0.001 0.001 0.001"/>
      </geometry>
      <material name="Grey"/>
    </visual>
    <collision>
      <origin rpy="0 0 0" xyz="0 0 0.0125"/>
      <geometry name="rh_lfmiddle_collision_geom">
        <cylinder length="0.025" radius="0.007"/>
      </geometry>
    </collision>
    <collision>
      <origin rpy="0 0 0" xyz="0 0 0.0"/>
      <geometry>
        <sphere radius="0.007"/>
      </geometry>
    </collision>
    <collision>
      <origin rpy="0 0 0" xyz="0 0 0.025"/>
      <geometry>
        <sphere radius="0.007"/>
      </geometry>
    </collision>
  </link>
  <joint name="rh_LFJ2" type="revolute">
    <parent link="rh_lfproximal"/>
    <child link="rh_lfmiddle"/>
    <origin rpy="0 0 0" xyz="0 0 0.045"/>
    <axis xyz="1 0 0"/>
    <limit effort="4.0" lower="0" upper="1.57079632679" velocity="2.0"/>
    <dynamics damping="0.1"/>
  </joint>
  <gazebo reference="rh_LFJ2">
    <provideFeedback>1</provideFeedback>
    <implicitSpringDamper>1</implicitSpringDamper>
  </gazebo>
  <transmission name="rh_lfmiddle_transmission">
    <type>sr_mechanism_model/SimpleTransmission</type>
    <actuator name="rh_LFJ2">
      <mechanicalReduction>1</mechanicalReduction>
    </actuator>
    <joint name="rh_LFJ2">
      <hardwareInterface>hardware_interface/EffortJointInterface</hardwareInterface>
    </joint>
    <!-- <secondJoint name="${prefix}${joint_prefix}J2"/> -->
  </transmission>
  <!-- prefix can be anything but usually is "r_" or  "l_" for right and left hands distinction -->
  <gazebo reference="rh_lfmiddle">
    <sensor name="rh_lfmiddle_contact" type="contact">
      <always_on>1</always_on>
      <update_rate>1000.0</update_rate>
      <contact>
        <collision>rh_lfmiddle_collision</collision>
        <topic>rh_lfmiddle_collision</topic>
      </contact>
      <plugin filename="libgazebo_ros_bumper.so" name="rh_lfproximal_gazebo_ros_bumper_controller">
        <alwaysOn>true</alwaysOn>
        <frameName>rh_lfmiddle</frameName>
        <updateRate>100.0</updateRate>
        <bumperTopicName>contacts/rh_lf/middle</bumperTopicName>
      </plugin>
    </sensor>
    <selfCollide>true</selfCollide>
  </gazebo>
  <link name="rh_lfdistal">
    <inertial>
      <mass value="0.012"/>
      <origin xyz="0 0 0.012"/>
      <inertia ixx="0.00000094" ixy="0.0" ixz="0.0" iyy="0.0000011" iyz="0.0" izz="0.00000053"/>
    </inertial>
    <visual>
      <origin rpy="0 0 0" xyz="0 0 0"/>
      <geometry name="rh_lfdistal_visual">
        <!-- Standard distal  -->
        <mesh filename="package://sr_description/hand/model/F1.dae" scale="0.001 0.001 0.001"/>
      </geometry>
      <material name="Grey"/>
    </visual>
    <collision>
      <origin rpy="0 0 0" xyz="0 0 0"/>
      <geometry name="rh_lfdistal_collision_geom">
        <!-- Standard distal  -->
        <mesh filename="package://sr_description/hand/model/F1.dae" scale="0.001 0.001 0.001"/>
      </geometry>
    </collision>
  </link>
  <joint name="rh_LFJ1" type="revolute">
    <parent link="rh_lfmiddle"/>
    <child link="rh_lfdistal"/>
    <origin rpy="0 0 0" xyz="0 0 0.025"/>
    <axis xyz="1 0 0"/>
    <!-- standard distal joint -->
    <limit effort="4.0" lower="0" upper="1.57079632679" velocity="2.0"/>
    <dynamics damping="0.1"/>
  </joint>
  <gazebo reference="rh_LFJ1">
    <provideFeedback>1</provideFeedback>
    <implicitSpringDamper>1</implicitSpringDamper>
  </gazebo>
  <link name="rh_lftip">
    <inertial>
      <mass value="0.001"/>
      <inertia ixx="0.0" ixy="0.0" ixz="0.0" iyy="0.0" iyz="0.0" izz="0.0"/>
    </inertial>
  </link>
  <joint name="rh_LFtip" type="fixed">
    <parent link="rh_lfdistal"/>
    <child link="rh_lftip"/>
    <origin rpy="0 0 0" xyz="0 0 0.0295"/>
  </joint>
  <transmission name="rh_lfdistal_transmission">
    <type>sr_mechanism_model/SimpleTransmission</type>
    <actuator name="rh_LFJ1">
      <mechanicalReduction>1</mechanicalReduction>
    </actuator>
    <joint name="rh_LFJ1">
      <hardwareInterface>hardware_interface/EffortJointInterface</hardwareInterface>
    </joint>
  </transmission>
  <!-- prefix can be anything but usually is "r_" or  "l_" for right and left hands distinction -->
  <gazebo reference="rh_lfdistal">
    <sensor name="rh_lfdistal_contact" type="contact">
      <always_on>1</always_on>
      <update_rate>1000.0</update_rate>
      <contact>
        <collision>rh_lfdistal_collision</collision>
        <topic>rh_lfdistal_collision</topic>
      </contact>
      <plugin filename="libgazebo_ros_bumper.so" name="rh_lfdistal_gazebo_ros_bumper_controller">
        <alwaysOn>true</alwaysOn>
        <frameName>rh_lfdistal</frameName>
        <updateRate>100.0</updateRate>
        <bumperTopicName>contacts/rh_lf/distal</bumperTopicName>
      </plugin>
    </sensor>
    <mu1 value="500.0"/>
    <mu2 value="500.0"/>
    <kp value="10000000.0"/>
    <kd value="1.0"/>
    <selfCollide>true</selfCollide>
  </gazebo>
  <link name="rh_thbase">
    <inertial>
      <mass value="0.010"/>
      <origin rpy="0 0 0" xyz="0 0 0"/>
      <inertia ixx="0.00000016" ixy="0.0" ixz="0.0" iyy="0.00000016" iyz="0.0" izz="0.00000016"/>
    </inertial>
    <visual>
      <origin rpy="0 0 0" xyz="0 0 0"/>
      <geometry name="rh_thbase_visual">
        <box size="0.001 0.001 0.001"/>
      </geometry>
      <material name="shadow_thbase_material">
        <color rgba="0.5 0.5 0.5 1.0"/>
      </material>
    </visual>
    <collision>
      <origin rpy="0 0 0" xyz="0 0 0"/>
      <geometry name="rh_thbase_collision_geom">
        <sphere radius="0.011"/>
      </geometry>
    </collision>
  </link>
  <joint name="rh_THJ5" type="revolute">
    <parent link="rh_palm"/>
    <child link="rh_thbase"/>
    <origin rpy="0 0.785398163397 0.0" xyz="0.034 -0.0085 0.029"/>
    <axis xyz="0 0 -1.0"/>
    <limit effort="4.0" lower="-1.0471975512" upper="1.0471975512" velocity="4.0"/>
    <dynamics damping="0.2"/>
  </joint>
  <gazebo reference="rh_THJ5">
    <provideFeedback>1</provideFeedback>
    <implicitSpringDamper>1</implicitSpringDamper>
  </gazebo>
  <transmission name="rh_thbase_transmission">
    <type>sr_mechanism_model/SimpleTransmission</type>
    <actuator name="rh_THJ5">
      <mechanicalReduction>1</mechanicalReduction>
    </actuator>
    <joint name="rh_THJ5">
      <hardwareInterface>hardware_interface/EffortJointInterface</hardwareInterface>
    </joint>
  </transmission>
  <!-- prefix can be anything but usually is "r_" or  "l_" for right and left hands distinction -->
  <gazebo reference="rh_thbase">
    <sensor name="rh_thbase_contact" type="contact">
      <always_on>1</always_on>
      <update_rate>1000.0</update_rate>
      <contact>
        <collision>rh_thbase_collision</collision>
        <topic>rh_thbase_collision</topic>
      </contact>
      <plugin filename="libgazebo_ros_bumper.so" name="rh_thbase_gazebo_ros_bumper_controller">
        <alwaysOn>true</alwaysOn>
        <frameName>rh_thbase</frameName>
        <updateRate>100.0</updateRate>
        <bumperTopicName>contacts/rh_th/base</bumperTopicName>
      </plugin>
    </sensor>
    <selfCollide>false</selfCollide>
  </gazebo>
  <link name="rh_thproximal">
    <inertial>
      <mass value="0.040"/>
      <origin rpy="0 0 0" xyz="0 0 0.019"/>
      <inertia ixx="0.0000136" ixy="0.0" ixz="0.0" iyy="0.0000136" iyz="0.0" izz="0.00000313"/>
    </inertial>
    <visual>
      <origin rpy="0 0 0" xyz="0 0 0"/>
      <geometry name="rh_thproximal_visual">
        <mesh filename="package://sr_description/hand/model/TH3_z.dae" scale="0.001 0.001 0.001"/>
      </geometry>
      <material name="shadow_thproximal_material">
        <color rgba="0.2 0.2 0.2 1.0"/>
      </material>
    </visual>
    <collision>
      <origin rpy="0 0 0" xyz="0 0 0.020"/>
      <geometry name="rh_thproximal_collision_geom">
        <cylinder length="0.018" radius="0.012"/>
      </geometry>
    </collision>
  </link>
  <joint name="rh_THJ4" type="revolute">
    <parent link="rh_thbase"/>
    <child link="rh_thproximal"/>
    <origin rpy="0 0 0" xyz="0 0 0"/>
    <axis xyz="1.0 0 0"/>
    <limit effort="4.0" lower="0.0" upper="1.2217304764" velocity="4.0"/>
    <dynamics damping="0.2"/>
  </joint>
  <gazebo reference="rh_THJ4">
    <provideFeedback>1</provideFeedback>
    <implicitSpringDamper>1</implicitSpringDamper>
  </gazebo>
  <transmission name="rh_thproximal_transmission">
    <type>sr_mechanism_model/SimpleTransmission</type>
    <actuator name="rh_THJ4">
      <mechanicalReduction>1</mechanicalReduction>
    </actuator>
    <joint name="rh_THJ4">
      <hardwareInterface>hardware_interface/EffortJointInterface</hardwareInterface>
    </joint>
  </transmission>
  <!-- prefix can be anything but usually is "r_" or  "l_" for right and left hands distinction -->
  <gazebo reference="rh_thproximal">
    <sensor name="rh_thproximal_contact" type="contact">
      <always_on>1</always_on>
      <update_rate>1000.0</update_rate>
      <contact>
        <collision>rh_thproximal_collision</collision>
        <topic>rh_thproximal_collision</topic>
      </contact>
      <plugin filename="libgazebo_ros_bumper.so" name="rh_thproximal_gazebo_ros_bumper_controller">
        <alwaysOn>true</alwaysOn>
        <frameName>rh_thproximal</frameName>
        <updateRate>100.0</updateRate>
        <bumperTopicName>contacts/rh_th/proximal</bumperTopicName>
      </plugin>
    </sensor>
    <selfCollide>false</selfCollide>
  </gazebo>
  <link name="rh_thhub">
    <inertial>
      <mass value="0.005"/>
      <origin rpy="0 0 0" xyz="0 0 0"/>
      <inertia ixx="0.000001" ixy="0.0" ixz="0.0" iyy="0.000001" iyz="0.0" izz="0.0000003"/>
    </inertial>
    <visual>
      <origin rpy="0 0 0" xyz="0 0 0"/>
      <geometry name="rh_thhub_visual">
        <box size="0.001 0.001 0.001"/>
      </geometry>
      <material name="shadow_thhub_material">
        <color rgba="0.7 0.7 0.7 1.0"/>
      </material>
    </visual>
    <collision>
      <origin rpy="0 0 0" xyz="0 0 0"/>
      <geometry name="rh_thhub_collision_geom">
        <sphere radius="0.010"/>
      </geometry>
    </collision>
  </link>
  <joint name="rh_THJ3" type="revolute">
    <parent link="rh_thproximal"/>
    <child link="rh_thhub"/>
    <origin rpy="0 0 0" xyz="0 0 0.038"/>
    <axis xyz="1 0 0"/>
    <limit effort="4.0" lower="-0.209439510239" upper="0.209439510239" velocity="4.0"/>
    <dynamics damping="0.2"/>
  </joint>
  <gazebo reference="rh_THJ3">
    <provideFeedback>1</provideFeedback>
    <implicitSpringDamper>1</implicitSpringDamper>
  </gazebo>
  <transmission name="rh_thhub_transmission">
    <type>sr_mechanism_model/SimpleTransmission</type>
    <actuator name="rh_THJ3">
      <mechanicalReduction>1</mechanicalReduction>
    </actuator>
    <joint name="rh_THJ3">
      <hardwareInterface>hardware_interface/EffortJointInterface</hardwareInterface>
    </joint>
  </transmission>
  <!-- prefix can be anything but usually is "r_" or  "l_" for right and left hands distinction -->
  <gazebo reference="rh_thhub">
    <sensor name="rh_thhub_contact" type="contact">
      <always_on>1</always_on>
      <update_rate>1000.0</update_rate>
      <contact>
        <collision>rh_thhub_collision</collision>
        <topic>rh_thhub_collision</topic>
      </contact>
      <plugin filename="libgazebo_ros_bumper.so" name="rh_thhub_gazebo_ros_bumper_controller">
        <alwaysOn>true</alwaysOn>
        <frameName>rh_thhub</frameName>
        <updateRate>100.0</updateRate>
        <bumperTopicName>contacts/rh_th/hub</bumperTopicName>
      </plugin>
    </sensor>
    <selfCollide>true</selfCollide>
  </gazebo>
  <link name="rh_thmiddle">
    <inertial>
      <mass value="0.020"/>
      <origin rpy="0 0 0" xyz="0 0 0.016"/>
      <inertia ixx="0.0000051" ixy="0.0" ixz="0.0" iyy="0.0000051" iyz="0.0" izz="0.00000121"/>
    </inertial>
    <visual>
      <origin rpy="0 0 0" xyz="0 0 0"/>
      <geometry name="rh_thmiddle_visual">
        <mesh filename="package://sr_description/hand/model/TH2_z.dae" scale="0.001 0.001 0.001"/>
      </geometry>
      <material name="shadow_thmiddle_material">
        <color rgba="0.2 0.2 0.2 1.0"/>
      </material>
    </visual>
    <collision>
      <origin rpy="0 0 0" xyz="0 0 0.012"/>
      <geometry name="rh_thmiddle_collision_geom">
        <cylinder length="0.018" radius="0.011"/>
      </geometry>
    </collision>
    <collision>
      <origin rpy="0 0 0" xyz="0 0 0.019"/>
      <geometry>
        <sphere radius="0.011"/>
      </geometry>
    </collision>
  </link>
  <joint name="rh_THJ2" type="revolute">
    <parent link="rh_thhub"/>
    <child link="rh_thmiddle"/>
    <origin rpy="0 0 0" xyz="0 0 0"/>
    <axis xyz="0 -1 0"/>
    <limit effort="4.0" lower="-0.698131700798" upper="0.698131700798" velocity="2.0"/>
    <dynamics damping="0.1"/>
  </joint>
  <gazebo reference="rh_THJ2">
    <provideFeedback>1</provideFeedback>
    <implicitSpringDamper>1</implicitSpringDamper>
  </gazebo>
  <transmission name="rh_thmiddle_transmission">
    <type>sr_mechanism_model/SimpleTransmission</type>
    <actuator name="rh_THJ2">
      <mechanicalReduction>1</mechanicalReduction>
    </actuator>
    <joint name="rh_THJ2">
      <hardwareInterface>hardware_interface/EffortJointInterface</hardwareInterface>
    </joint>
  </transmission>
  <!-- prefix can be anything but usually is "r_" or  "l_" for right and left hands distinction -->
  <gazebo reference="rh_thmiddle">
    <sensor name="rh_thmiddle_contact" type="contact">
      <always_on>1</always_on>
      <update_rate>1000.0</update_rate>
      <contact>
        <collision>rh_thmiddle_collision</collision>
        <topic>rh_thmiddle_collision</topic>
      </contact>
      <plugin filename="libgazebo_ros_bumper.so" name="rh_thmiddle_gazebo_ros_bumper_controller">
        <alwaysOn>true</alwaysOn>
        <frameName>rh_thmiddle</frameName>
        <updateRate>100.0</updateRate>
        <bumperTopicName>contacts/rh_th/middle</bumperTopicName>
      </plugin>
    </sensor>
    <selfCollide>true</selfCollide>
  </gazebo>
  <!-- common -->
  <link name="rh_thdistal">
    <inertial>
      <mass value="0.016"/>
      <origin rpy="0 0 0" xyz="0 0 0.01375"/>
      <inertia ixx="0.0000021" ixy="0.0" ixz="0.0" iyy="0.0000022" iyz="0.0" izz="0.000001"/>
    </inertial>
    <visual>
      <origin rpy="0 0 0" xyz="0 0 0"/>
      <geometry name="rh_thdistal_visual">
        <!-- Standard distal  -->
        <mesh filename="package://sr_description/hand/model/TH1_z.dae" scale="0.001 0.001 0.001"/>
      </geometry>
      <material name="shadow_thmiddle_material">
        <color rgba="0.2 0.2 0.2 1.0"/>
      </material>
    </visual>
    <collision>
      <origin rpy="0 0 0" xyz="0 0 0"/>
      <geometry name="rh_thmiddle_collision_geom">
        <!-- Standard distal  -->
        <mesh filename="package://sr_description/hand/model/TH1_z.dae" scale="0.001 0.001 0.001"/>
        <!--      <box size="0.015 0.015 0.015" /> -->
      </geometry>
    </collision>
  </link>
  <joint name="rh_THJ1" type="revolute">
    <parent link="rh_thmiddle"/>
    <child link="rh_thdistal"/>
    <origin rpy="0 0 -1.57079632679" xyz="0 0 0.032"/>
    <axis xyz="1 0 0"/>
    <limit effort="4.0" lower="0" upper="1.57079632679" velocity="4.0"/>
    <dynamics damping="0.2"/>
  </joint>
  <gazebo reference="rh_THJ1">
    <provideFeedback>1</provideFeedback>
    <implicitSpringDamper>1</implicitSpringDamper>
  </gazebo>
  <link name="rh_thtip">
    <inertial>
      <mass value="0.001"/>
      <inertia ixx="0.0" ixy="0.0" ixz="0.0" iyy="0.0" iyz="0.0" izz="0.0"/>
    </inertial>
  </link>
  <joint name="rh_thtip" type="fixed">
    <parent link="rh_thdistal"/>
    <child link="rh_thtip"/>
    <origin rpy="0 0 0" xyz="0 0 0.0350"/>
  </joint>
  <!-- prefix can be anything but usually is "r_" or  "l_" for right and left hands distinction -->
  <gazebo reference="rh_thdistal">
    <sensor name="rh_thdistal_contact" type="contact">
      <always_on>1</always_on>
      <update_rate>1000.0</update_rate>
      <contact>
        <collision>rh_thdistal_collision</collision>
        <topic>rh_thdistal_collision</topic>
      </contact>
      <plugin filename="libgazebo_ros_bumper.so" name="rh_thdistal_gazebo_ros_bumper_controller">
        <alwaysOn>true</alwaysOn>
        <frameName>rh_thdistal</frameName>
        <updateRate>100.0</updateRate>
        <bumperTopicName>contacts/rh_th/distal</bumperTopicName>
      </plugin>
    </sensor>
    <mu1 value="500.0"/>
    <mu2 value="500.0"/>
    <kp value="10000000.0"/>
    <kd value="1.0"/>
    <selfCollide>true</selfCollide>
  </gazebo>
  <transmission name="rh_thdistal_transmission">
    <type>sr_mechanism_model/SimpleTransmission</type>
    <actuator name="rh_THJ1">
      <mechanicalReduction>1</mechanicalReduction>
    </actuator>
    <joint name="rh_THJ1">
      <hardwareInterface>hardware_interface/EffortJointInterface</hardwareInterface>
    </joint>
  </transmission>
</robot>
